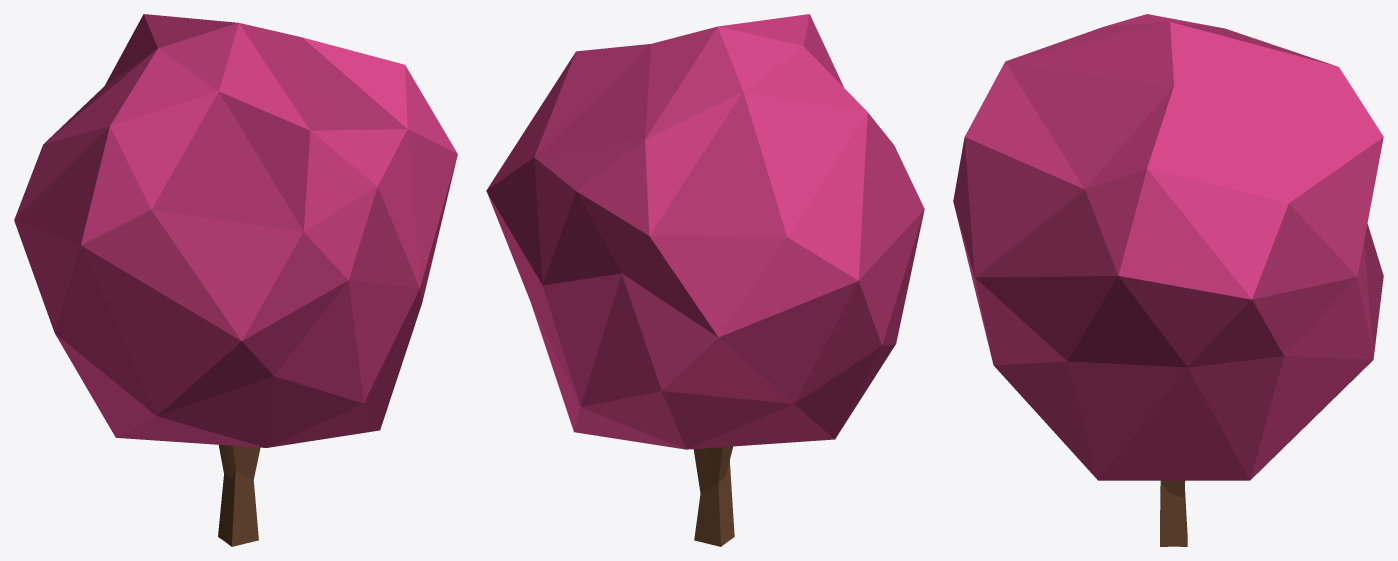
Rendered from Tree_9_Pink.fbx.
3 views of the same model, side by side, from view 1: azimuth 30°, elevation 25°; view 2: azimuth 150°, elevation 25°; view 3: azimuth 270°, elevation 25° (orthographic).
Parts seen in each view (by area): view 1: Tree_9_Pink_Part_1, Tree_9_Pink_Part_2; view 2: Tree_9_Pink_Part_1, Tree_9_Pink_Part_2; view 3: Tree_9_Pink_Part_1, Tree_9_Pink_Part_2.
Boxes of the visible parts, x1,y1,x2,y2 form: Tree_9_Pink_Part_1: (14, 14, 457, 447); Tree_9_Pink_Part_2: (218, 445, 260, 546); Tree_9_Pink_Part_1: (486, 14, 924, 449); Tree_9_Pink_Part_2: (693, 446, 734, 546); Tree_9_Pink_Part_1: (953, 14, 1383, 480); Tree_9_Pink_Part_2: (1160, 480, 1187, 546).
Bounding box in the file's own units: 583 × 765 × 576.
